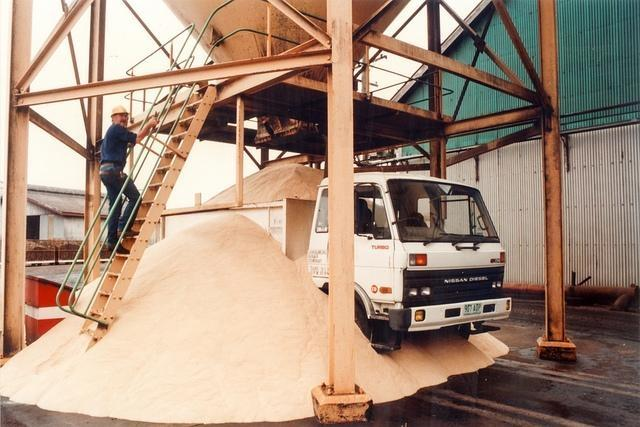truck: (150, 161, 514, 353)
